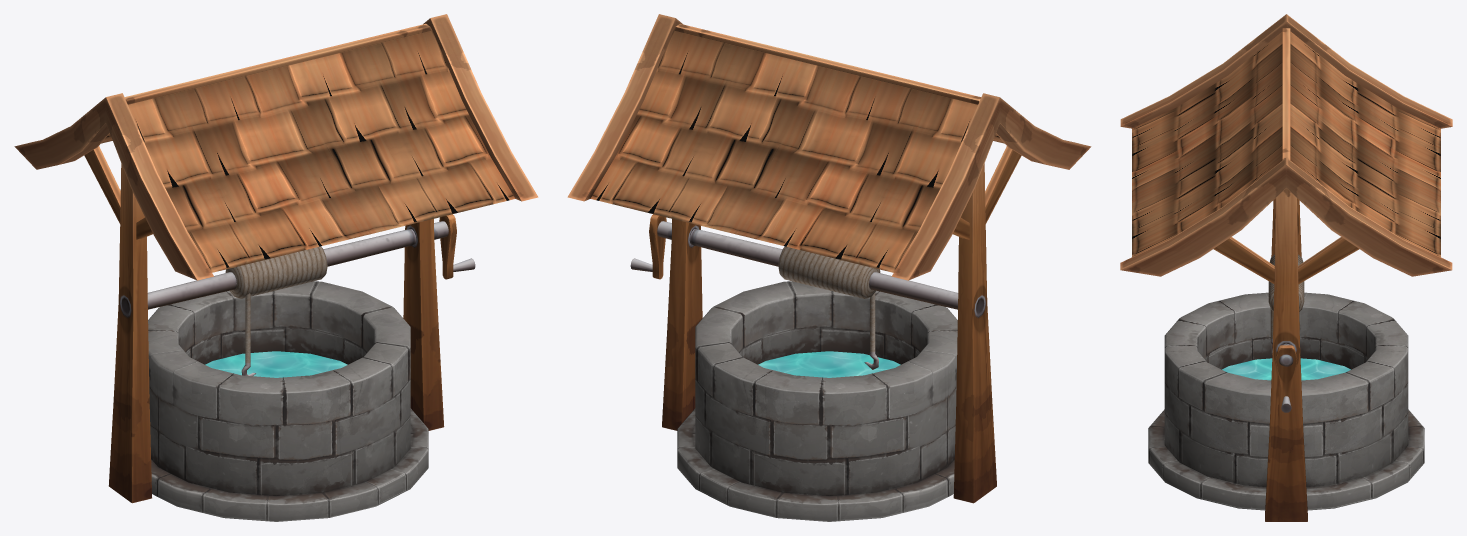
File: Well01_1.FBX
3 renders of one model, left to right at view 1: azimuth 30°, elevation 25°; view 2: azimuth 150°, elevation 25°; view 3: azimuth 270°, elevation 25°, orthographic. The views are drawn at different scales.
Parts seen in each view (by area): view 1: Well01_1; view 2: Well01_1; view 3: Well01_1.
Boxes of the visible parts, x1,y1,x2,y2 form: Well01_1: [14, 14, 538, 521]; Well01_1: [567, 14, 1091, 521]; Well01_1: [1120, 14, 1452, 521].
Size of what is drawn, in the model's own units: 2.9 by 3.03 by 2.51.
